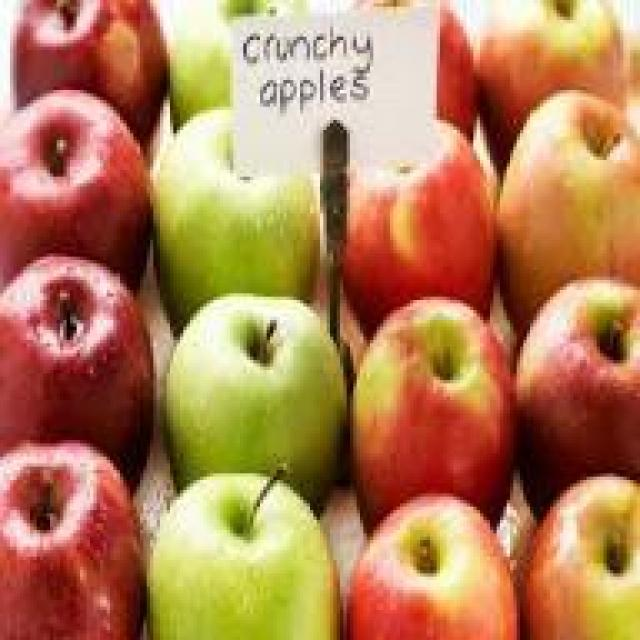apple: (160, 304, 350, 514), (360, 300, 517, 533), (157, 107, 330, 313), (337, 116, 500, 326), (7, 263, 160, 470), (147, 470, 330, 637), (7, 94, 153, 294), (497, 90, 633, 300), (520, 270, 637, 487), (343, 490, 520, 633), (3, 7, 170, 153), (333, 3, 487, 137), (526, 486, 640, 623)
